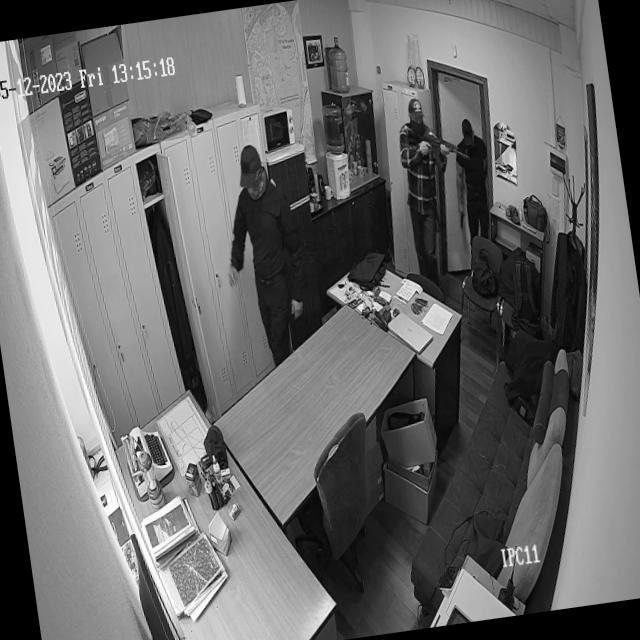gun: (418, 132, 472, 175)
person: (215, 148, 318, 373)
person with a gun: (392, 90, 485, 284), (446, 112, 506, 288)
